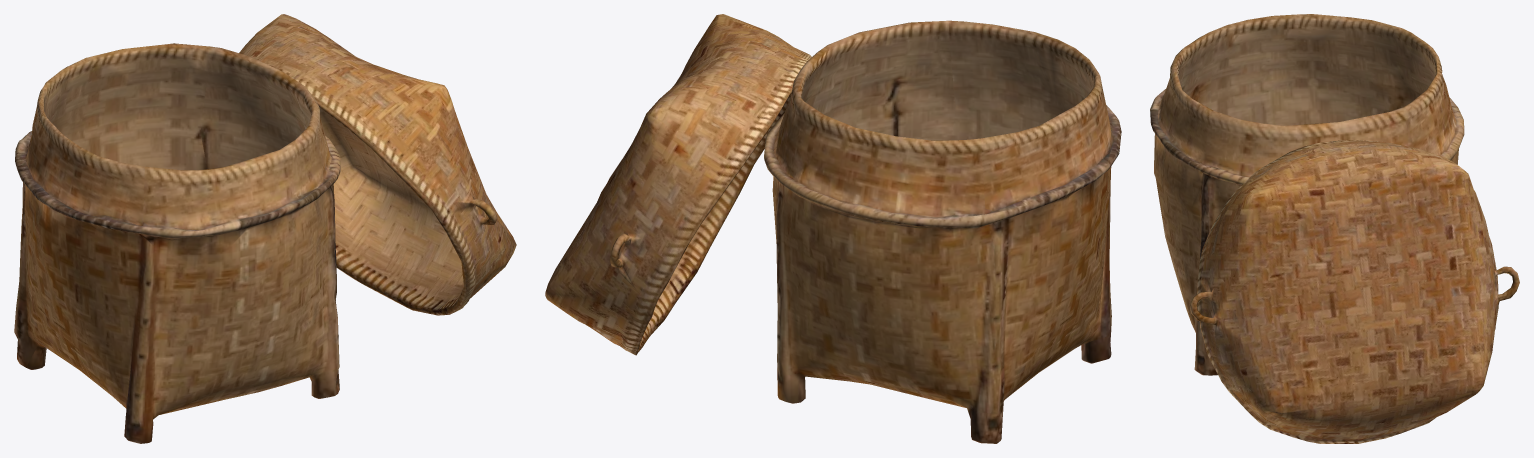
The model's file is picnic-basket-0-near.glb.
The picture shows the model from 3 angles, left to right: view 1: azimuth 30°, elevation 25°; view 2: azimuth 150°, elevation 25°; view 3: azimuth 270°, elevation 25°; orthographic projection. The views are drawn at different scales.
Parts seen in each view (by area): view 1: wicker_basket_02_base; view 2: wicker_basket_02_base; view 3: wicker_basket_02_base.
Part boxes in pixels (x1,y1,x2,y2): wicker_basket_02_base: (14,14,516,443); wicker_basket_02_base: (545,14,1121,443); wicker_basket_02_base: (1150,14,1519,443).
Bounding box in the file's own units: 0.62 × 0.3581 × 0.454.
Materials: 1 (1 with a texture image).
